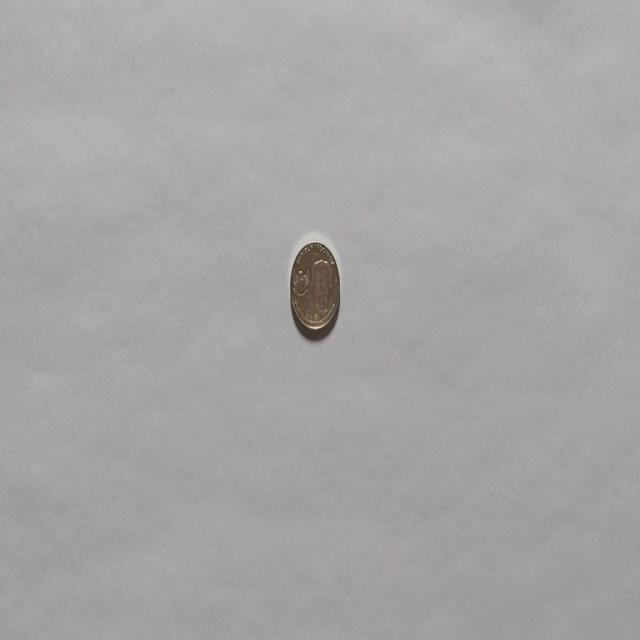seratus rupiah: (289, 239, 341, 333)
